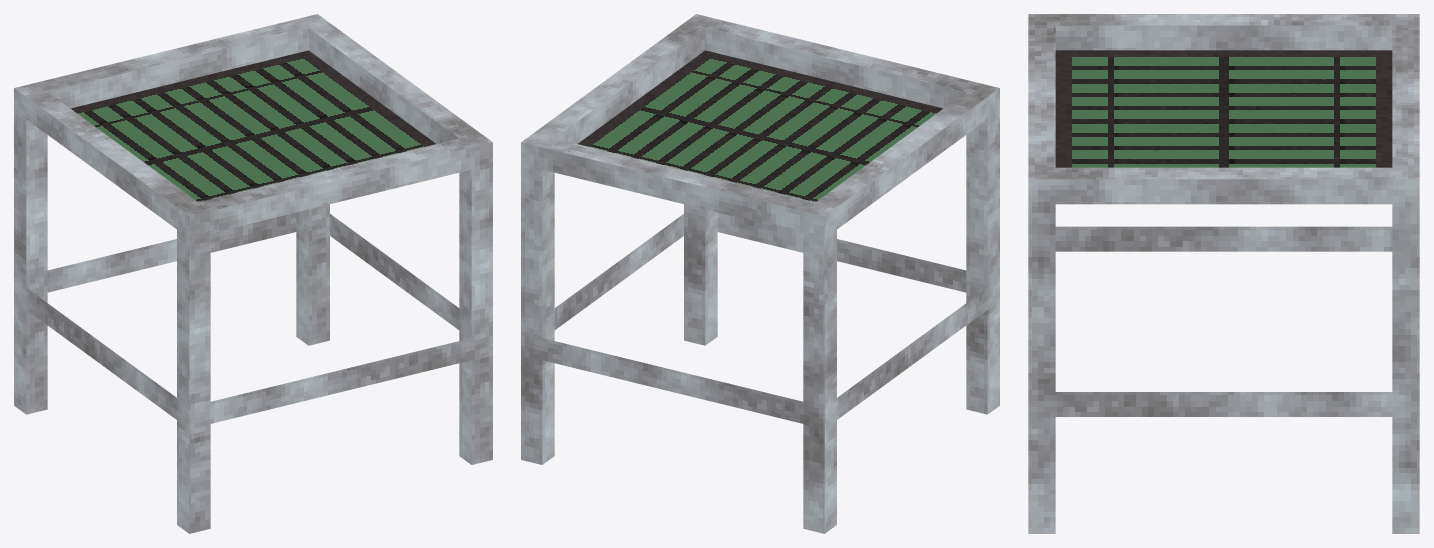
The model's file is k-scaffold.glb.
3 renders of one model, left to right at view 1: azimuth 30°, elevation 25°; view 2: azimuth 150°, elevation 25°; view 3: azimuth 270°, elevation 25°, orthographic. The views are drawn at different scales.
Visible parts, largest first — view 1: scaffolding-structure; view 2: scaffolding-structure; view 3: scaffolding-structure.
Part boxes in pixels (x1,y1,x2,y2): scaffolding-structure: (14, 14, 492, 533); scaffolding-structure: (521, 14, 999, 533); scaffolding-structure: (1028, 14, 1419, 533).
Bounding box in the file's own units: 1 × 1 × 1.
2 materials, 2 textured.
